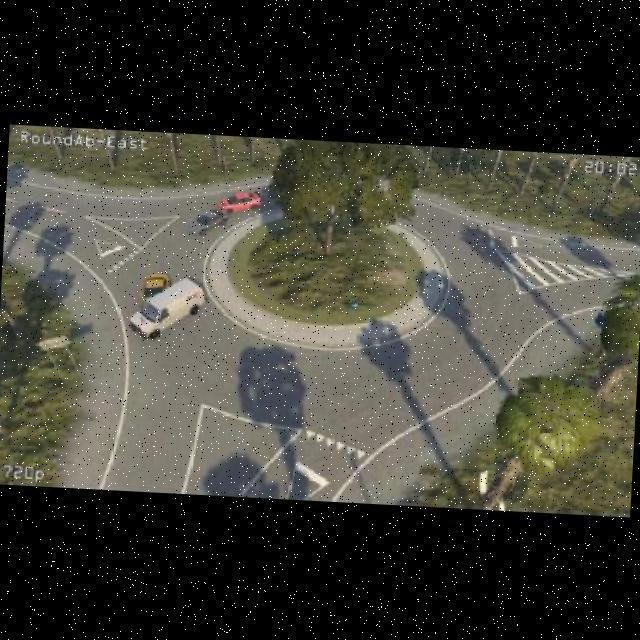accident: (124, 266, 208, 343)
